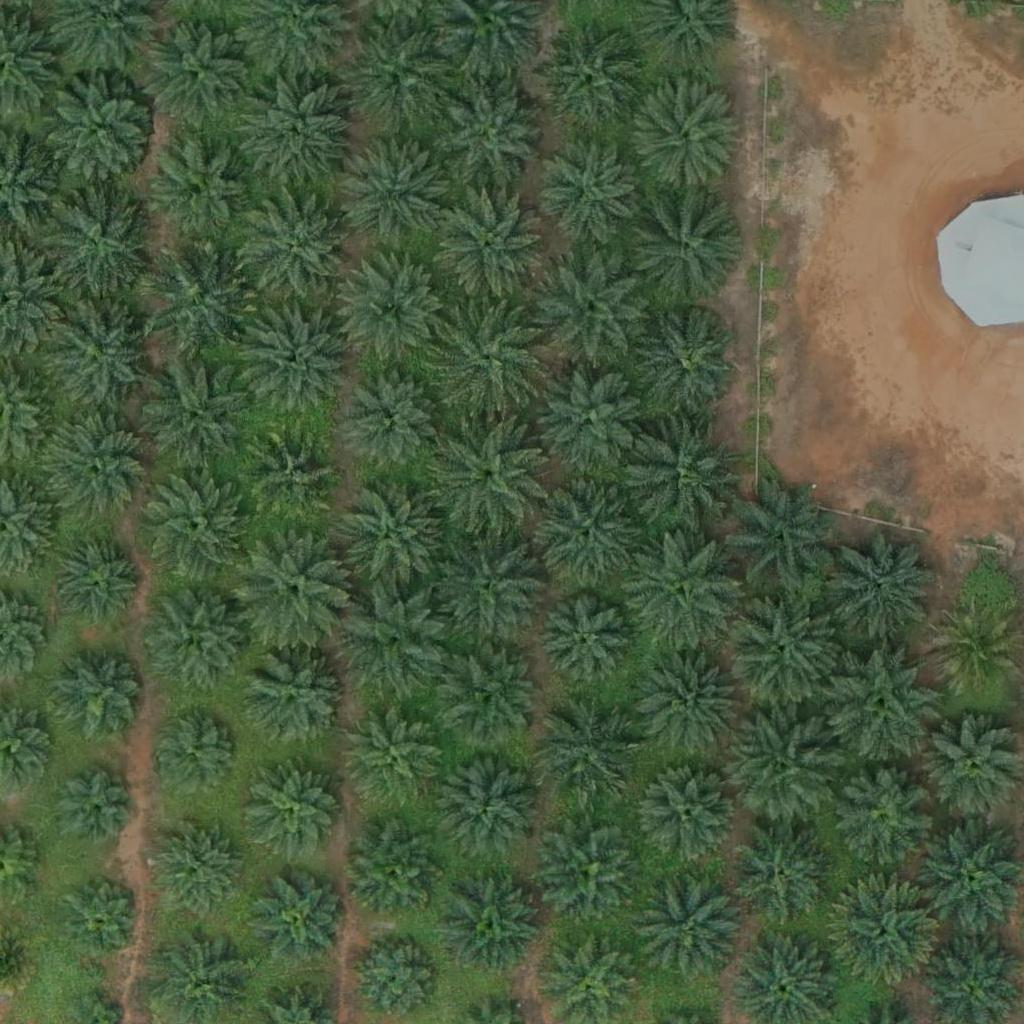Kelapa_Sawit: (340, 20, 453, 134), (341, 135, 454, 249), (829, 531, 942, 645), (827, 647, 940, 761), (727, 482, 840, 596), (237, 77, 350, 190), (244, 195, 357, 308), (337, 254, 450, 367), (530, 20, 643, 133), (633, 82, 746, 195), (628, 194, 741, 307), (432, 421, 545, 534), (431, 526, 544, 639), (334, 475, 447, 588), (43, 298, 156, 411), (434, 75, 546, 189), (433, 192, 545, 306), (536, 253, 648, 367), (727, 588, 839, 702), (630, 421, 742, 535), (829, 881, 941, 994), (44, 71, 156, 184), (39, 184, 151, 297), (143, 14, 255, 127), (140, 244, 252, 357), (428, 301, 540, 414), (724, 713, 836, 826), (627, 535, 739, 648), (531, 480, 643, 593), (340, 582, 452, 695), (238, 531, 350, 644), (137, 470, 249, 583), (533, 365, 645, 478), (237, 298, 349, 411), (141, 357, 253, 470), (152, 137, 252, 238), (732, 829, 832, 930), (638, 652, 738, 753), (639, 765, 739, 866), (639, 874, 739, 975), (538, 697, 638, 798), (540, 823, 640, 924), (446, 647, 546, 748), (440, 755, 540, 856), (441, 877, 541, 978), (347, 704, 447, 805), (346, 821, 446, 922), (245, 646, 345, 747), (244, 762, 344, 863), (148, 590, 248, 691), (45, 412, 145, 513), (539, 140, 639, 240), (638, 313, 738, 413), (833, 769, 933, 869), (248, 432, 336, 521), (932, 609, 1020, 697), (352, 935, 440, 1023), (540, 599, 627, 687), (257, 875, 344, 963), (151, 706, 238, 794), (153, 818, 240, 906), (50, 536, 137, 624), (56, 655, 143, 743), (349, 375, 436, 463), (56, 770, 131, 846), (63, 879, 138, 955)
